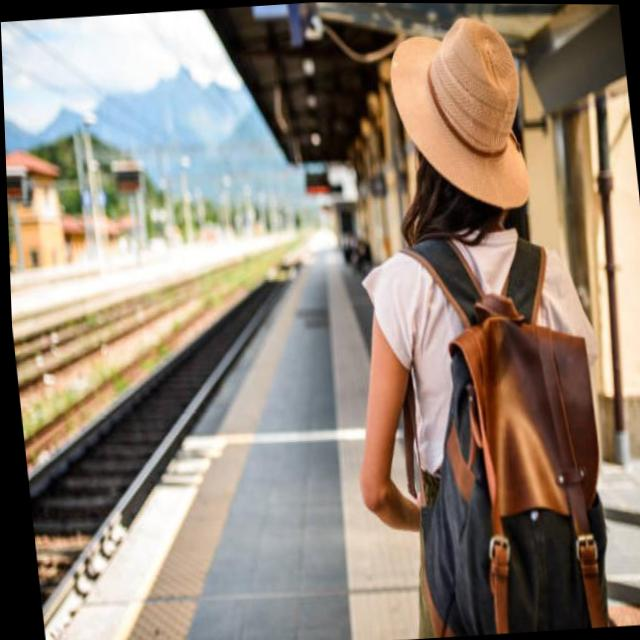no helmet: (371, 2, 545, 244)
